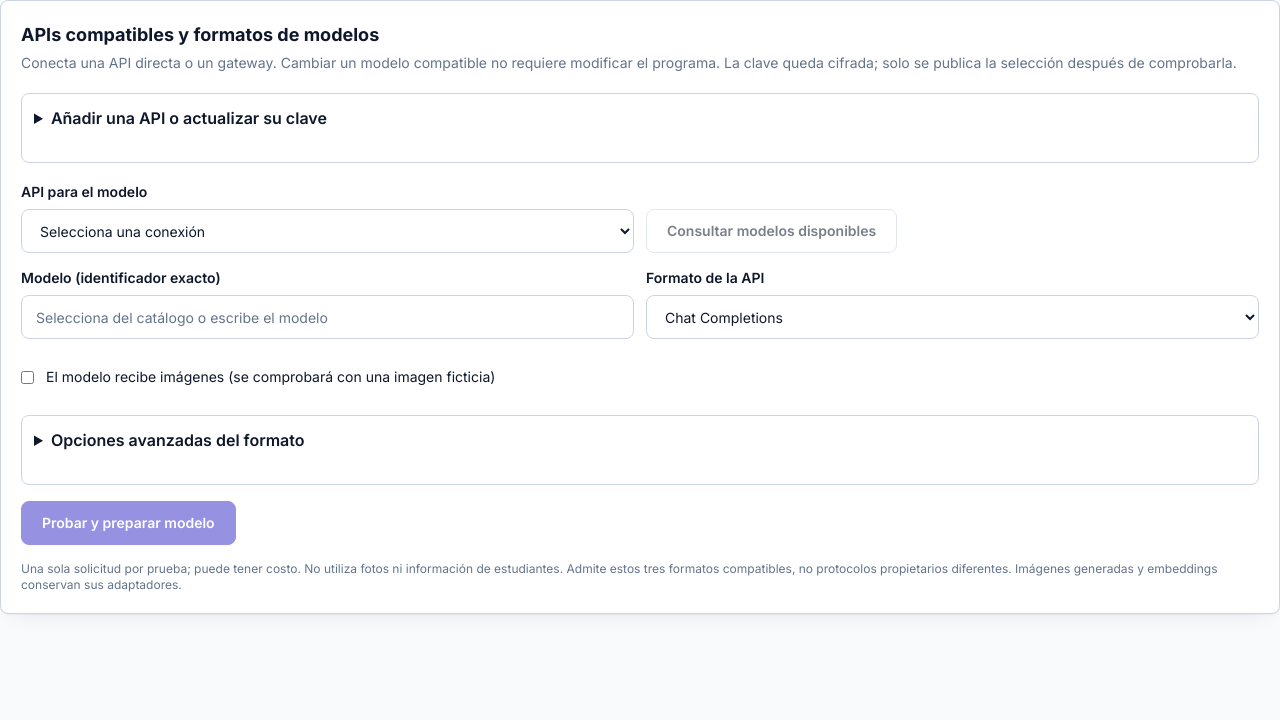
Scenario: Compatible API administration › keeps the selection and existing models after a failed catalog or probe
Select "Directa" in the dropdown labelled "API para el modelo" at x=328, y=231, box [21,209,634,253]
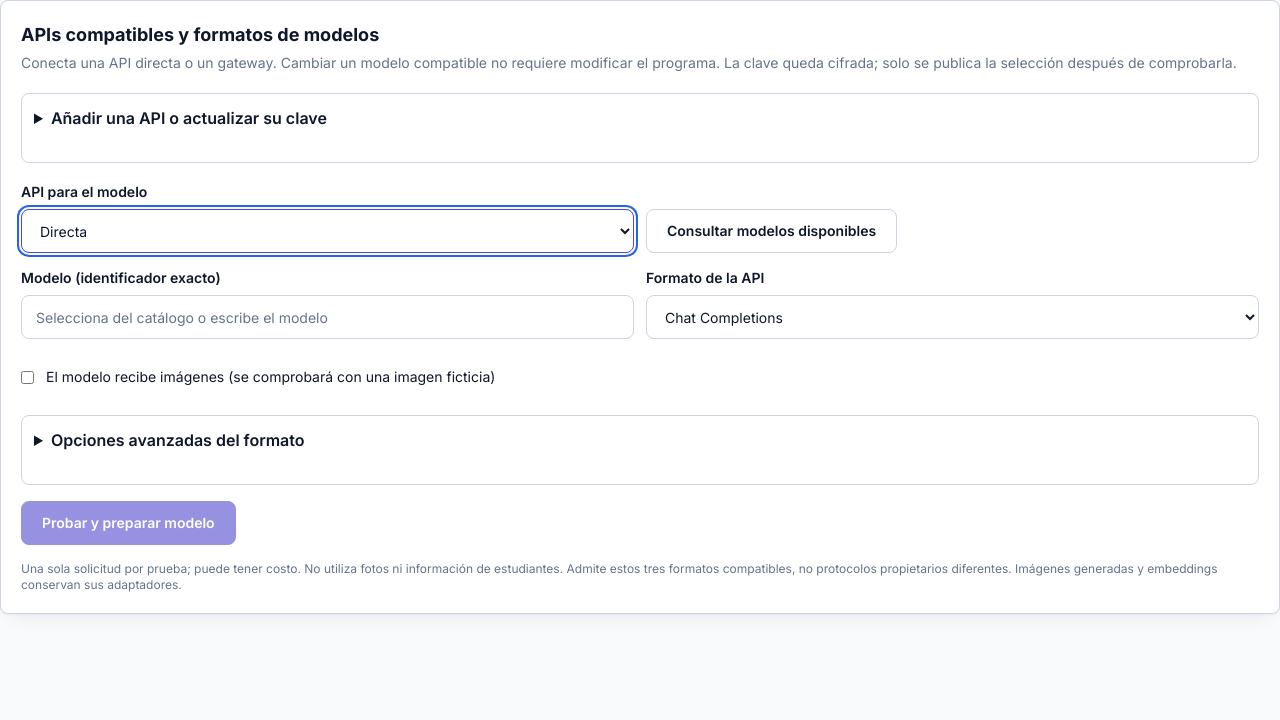
Click the button "Consultar modelos disponibles".
click(772, 231)  # box [646,209,897,253]
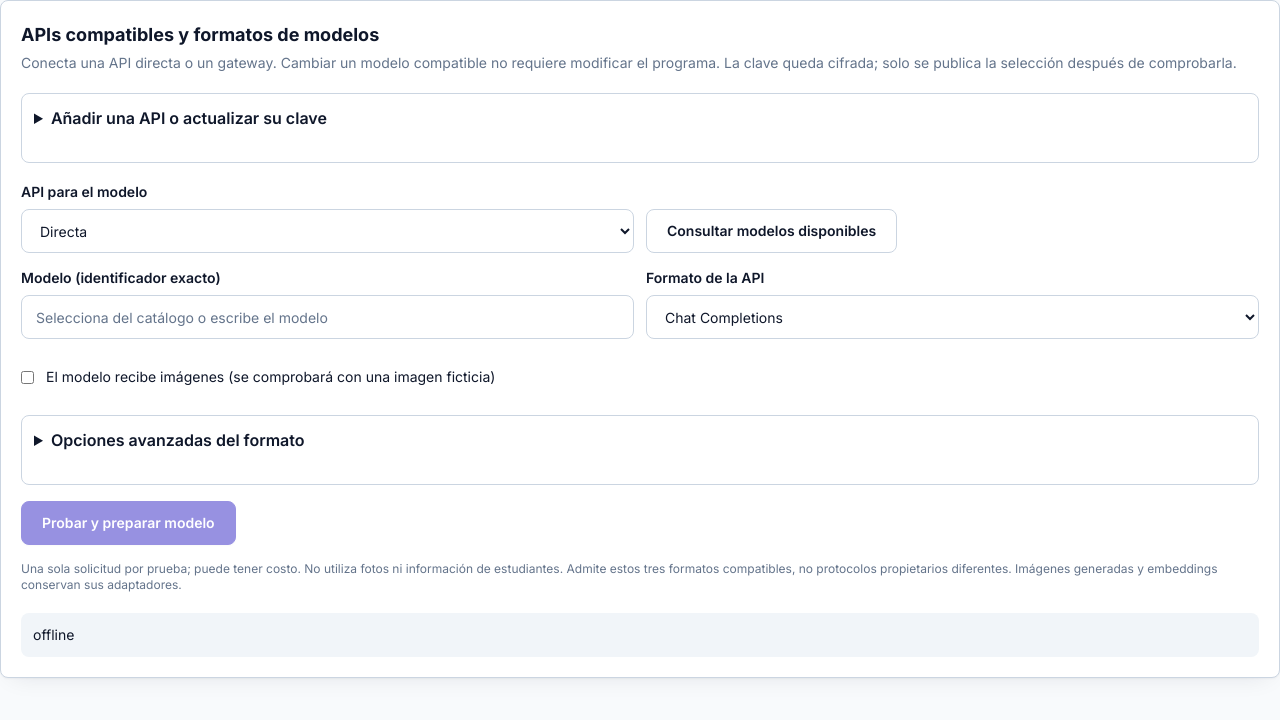
Type "future" into the field labelled "Modelo (identificador exacto)".
click(328, 317); type("future")  # box [21,295,634,339]
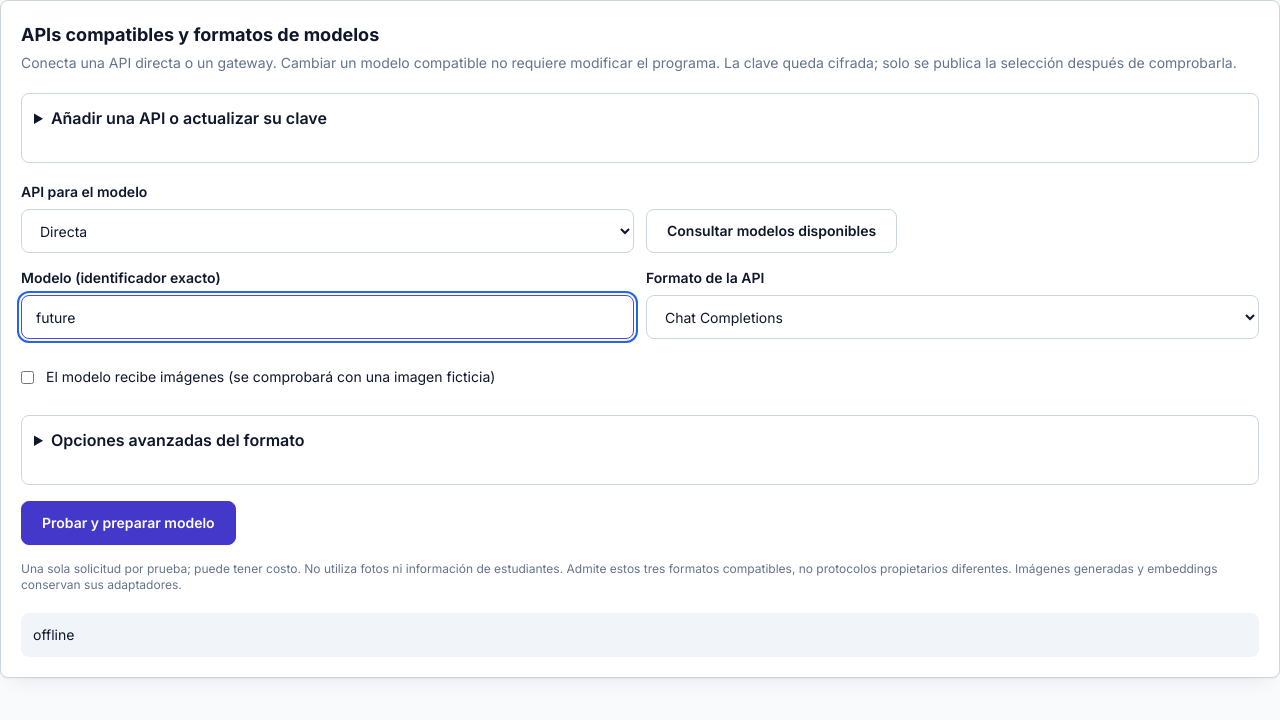
Click the button "Probar y preparar modelo".
click(128, 523)  # box [21,501,236,545]
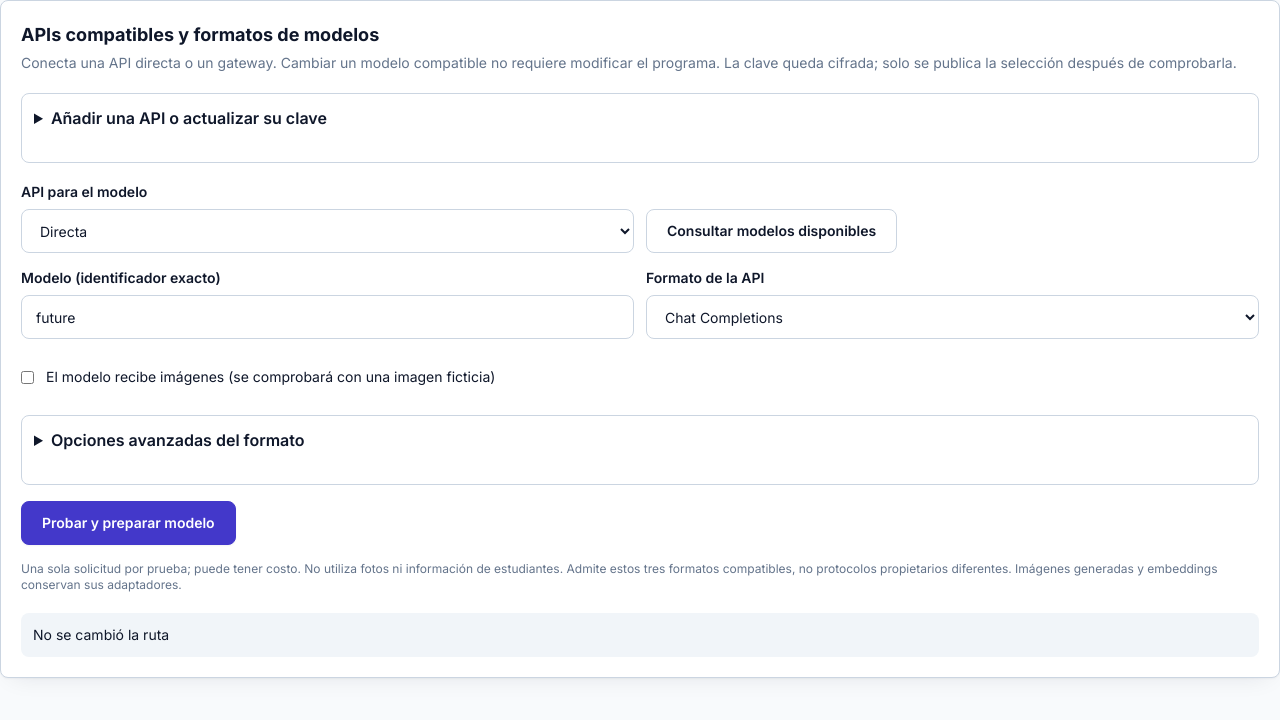
Now the message reads "No se cambió la ruta", box [33,626,169,643]
